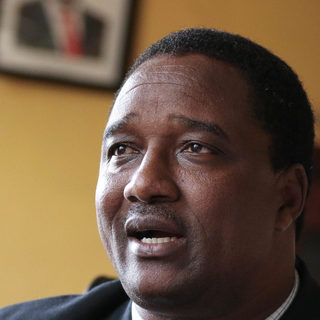eye: (171, 136, 222, 162), (104, 140, 142, 163)
